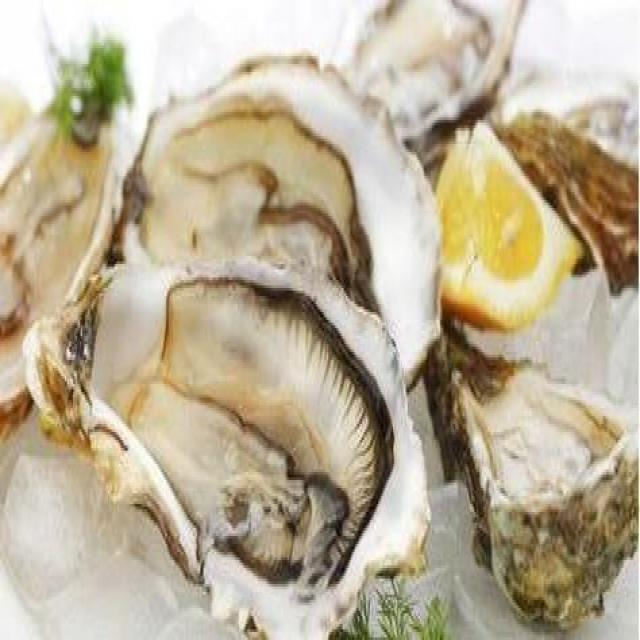Oyster-Open: (22, 251, 436, 640), (120, 47, 442, 390), (414, 310, 640, 640), (0, 49, 122, 443), (338, 0, 528, 169)
